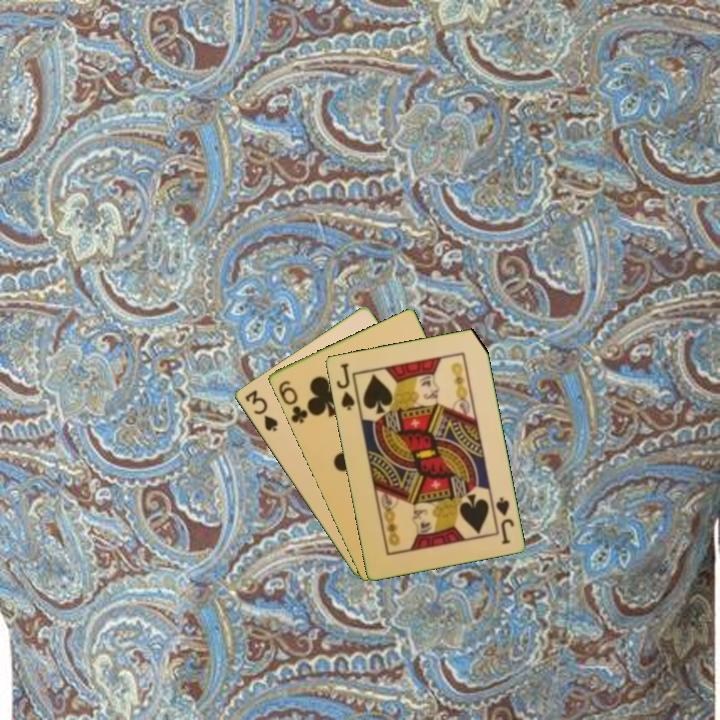3s: (241, 386, 281, 434)
6c: (274, 377, 310, 427)
Js: (332, 359, 357, 413), (492, 493, 517, 547)
